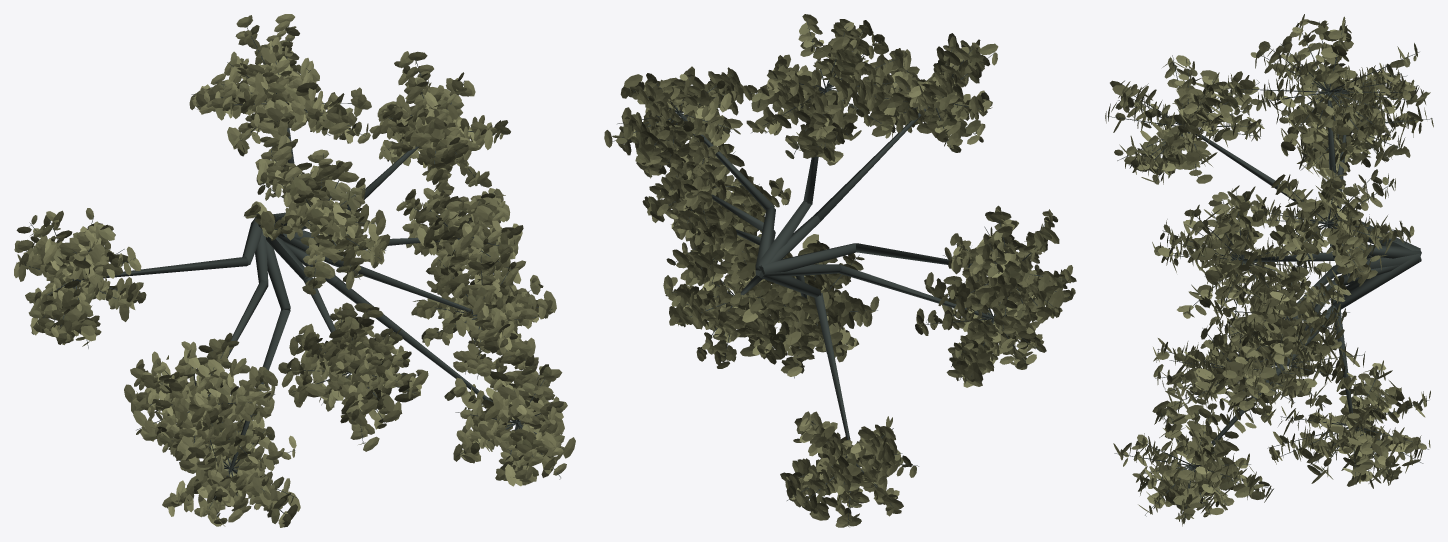
File: tree_m19.obj
3 renders of one model, left to right at view 1: azimuth 30°, elevation 25°; view 2: azimuth 150°, elevation 25°; view 3: azimuth 270°, elevation 25°, orthographic. The views are drawn at different scales.
Bounding box in the file's own units: 1.71 × 1.76 × 1.06.
Materials: 1 (1 with a texture image).
